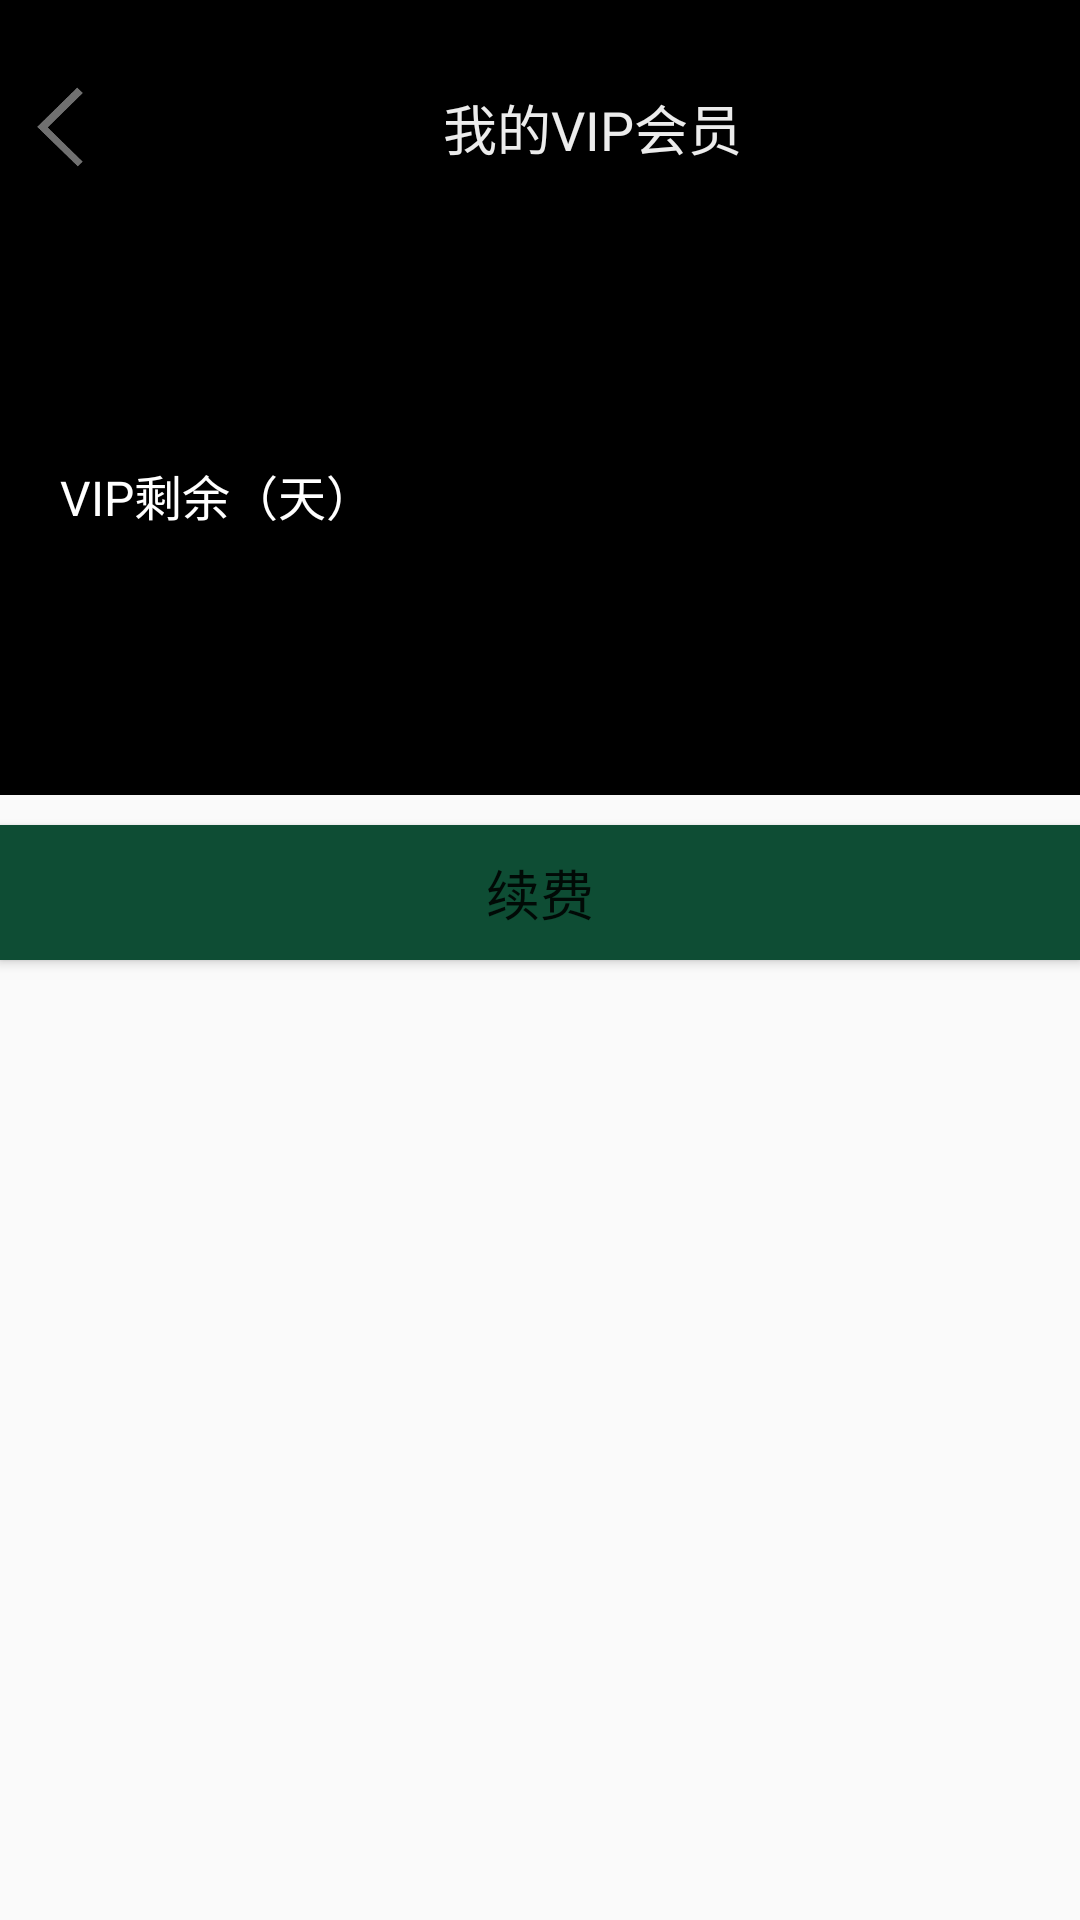

Screen size 1080*1920. Icon name, then its box in pixels as (x1, y1, x2, y2):
leftdir: (37, 88, 83, 166)
